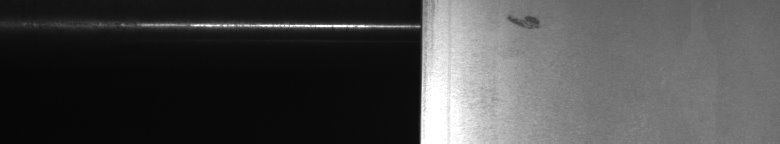fi: (507, 16, 539, 28)
